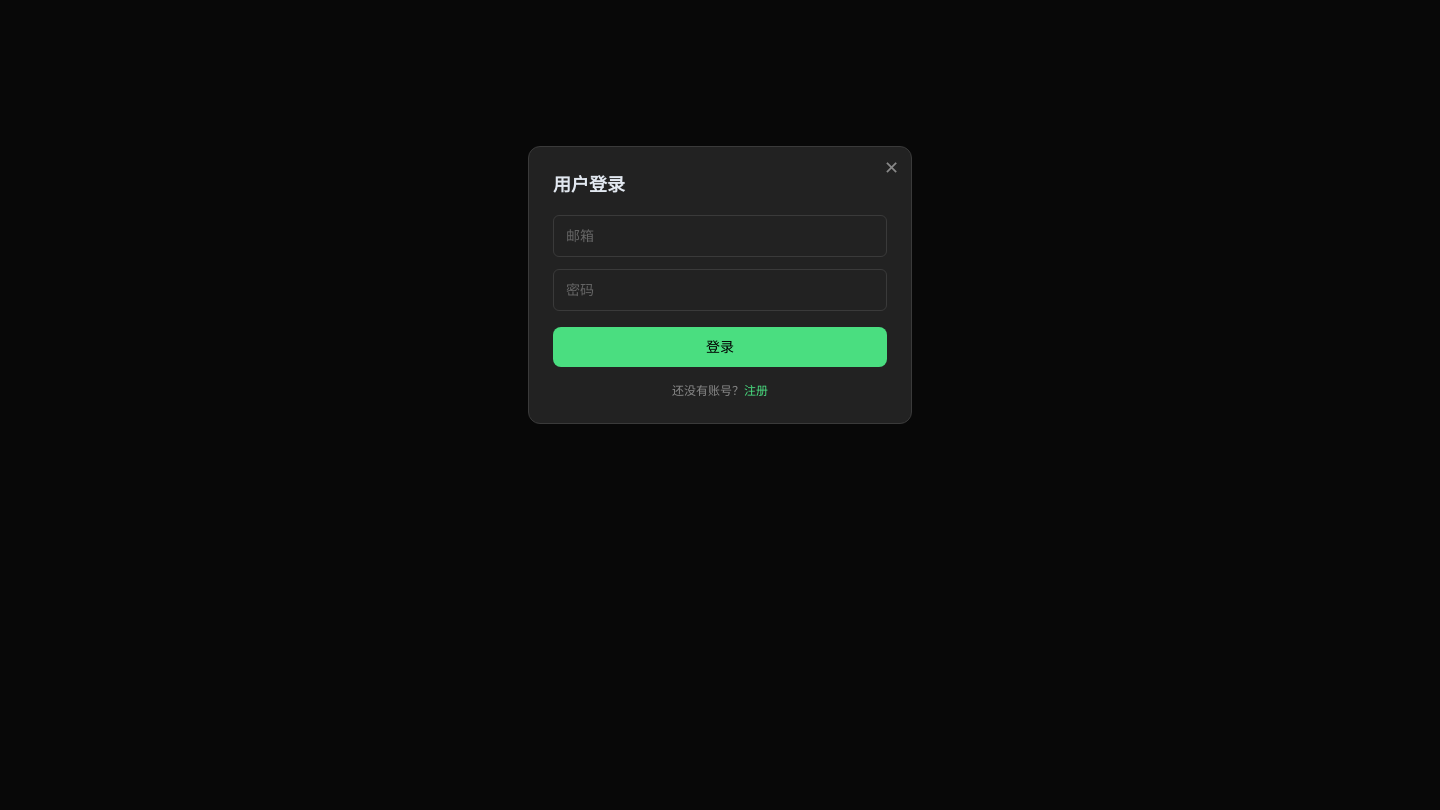
Test: AuthModal › should switch to register form when clicking bottom register link
What coordinates should you click on to do the following:
click the button "注册"
I would click on:
 (756, 391)
Its box is [744,383,768,399].
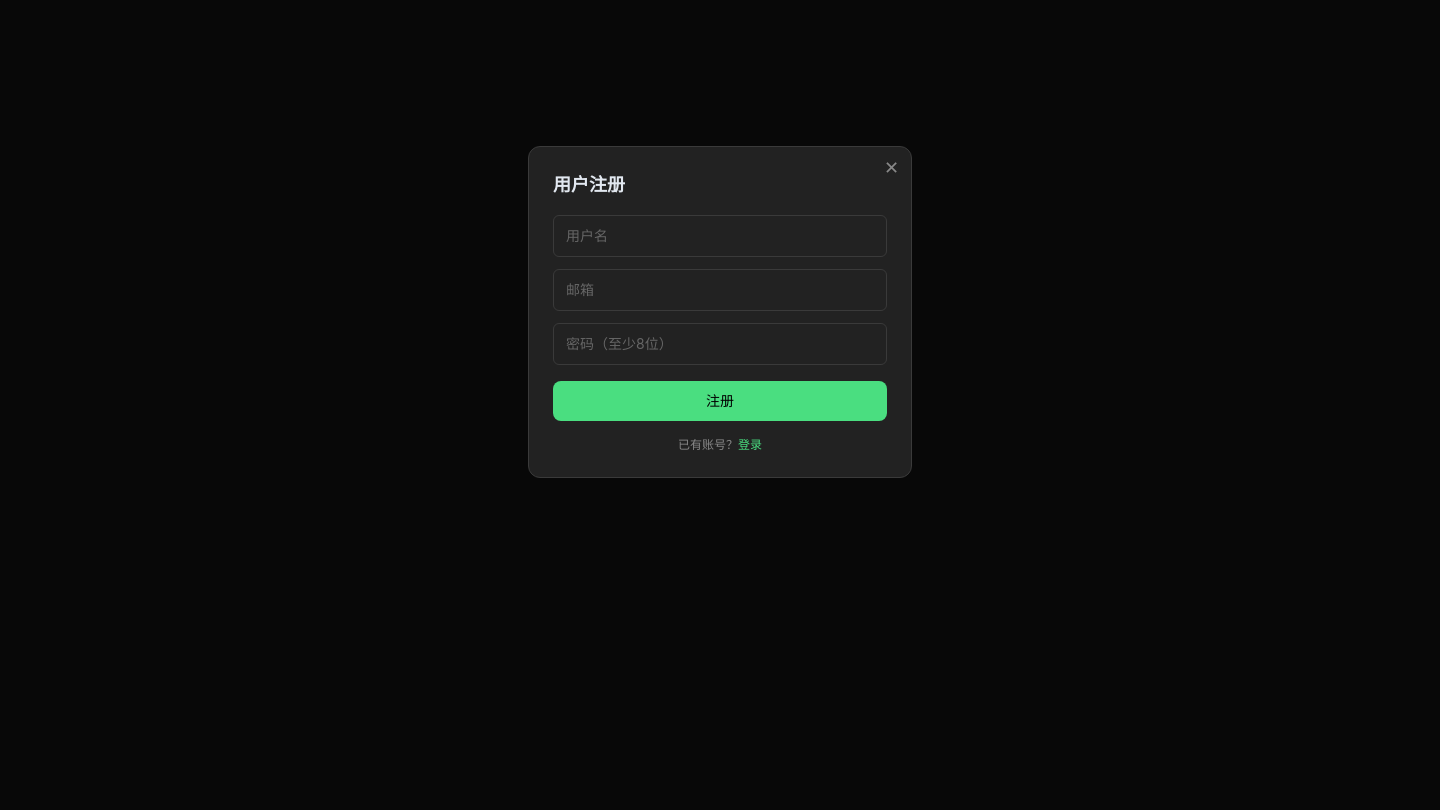
Check: the field with placeholder "用户名" is shown, box [553,215,887,257]
Check: the heading "用户注册" is shown, box [553,174,625,195]
